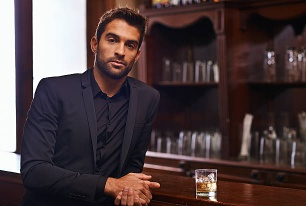male: (94, 15, 143, 81)
